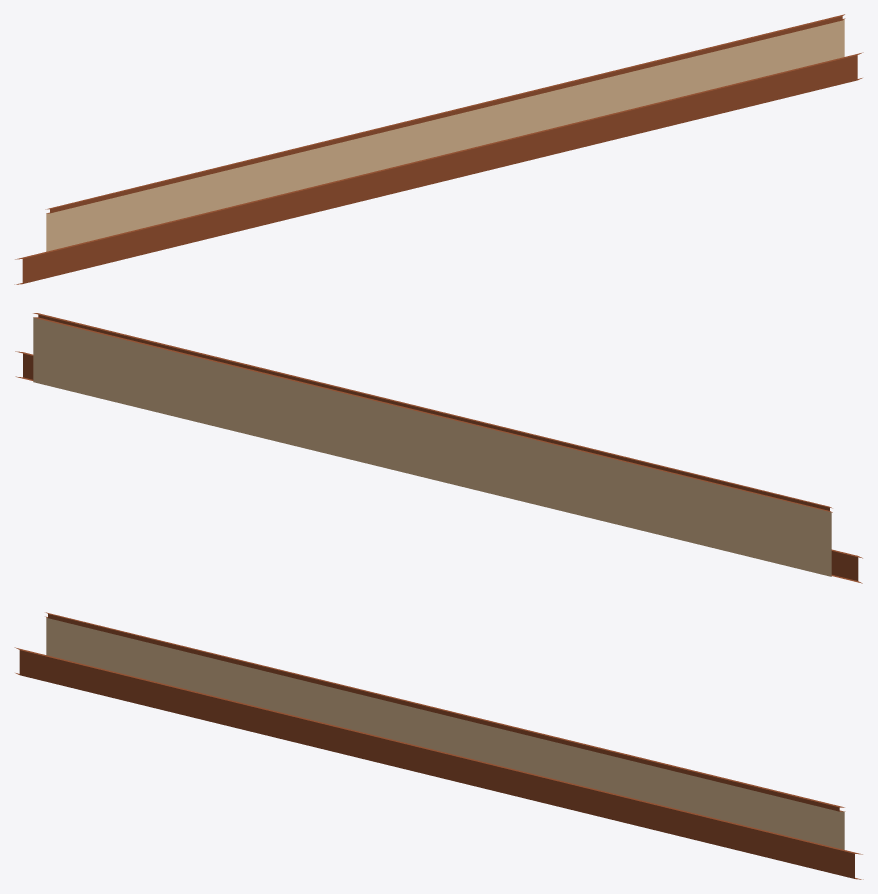
File: arka_duvar_uzun.fbx
3 renders of one model, top to bottom at view 1: azimuth 30°, elevation 25°; view 2: azimuth 150°, elevation 25°; view 3: azimuth 330°, elevation 25°, orthographic.
Visible parts, largest first — view 1: Plane.003; view 2: Plane.003; view 3: Plane.003.
Boxes of the visible parts, x1,y1,x2,y2 form: Plane.003: [14, 14, 863, 284]; Plane.003: [15, 313, 862, 583]; Plane.003: [14, 612, 863, 879].
Size of the model in its own units: 1350 by 104 by 3.89.
